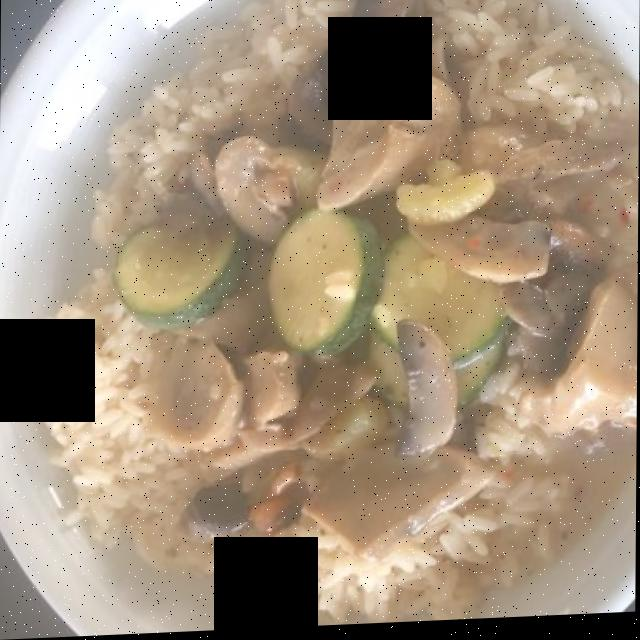mushroom-average-stewed-without-addition-of-fat-without-addition-of-salt: (133, 6, 637, 568)
rice: (40, 0, 638, 618)
sauce-mushroom: (469, 434, 630, 604)
zucchini-stewed-without-addition-of-fat-without-addition-of-salt: (113, 220, 513, 422)
